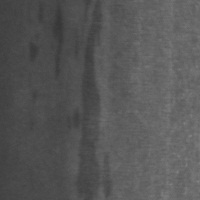inclusion: (71, 1, 120, 199), (44, 5, 70, 85), (25, 35, 42, 65)
